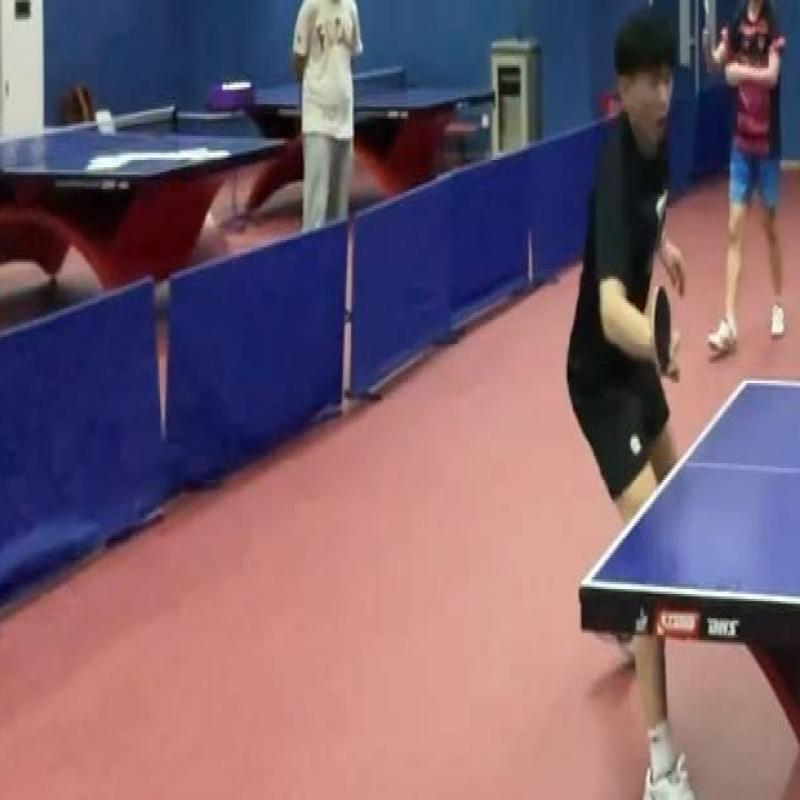bats: (648, 276, 688, 386)
